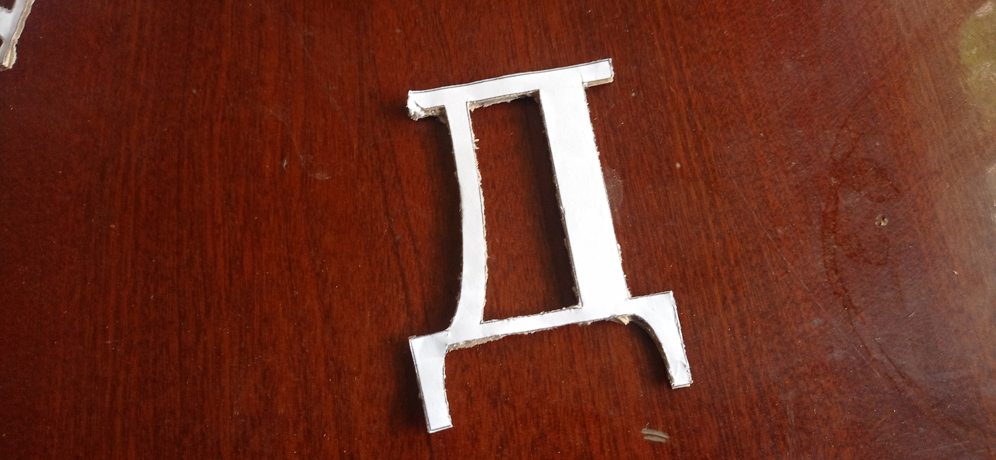d: (391, 57, 696, 434)
